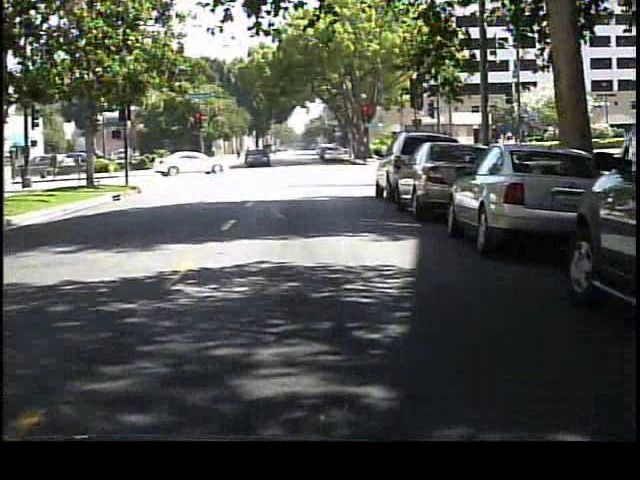person: (239, 143, 253, 170)
